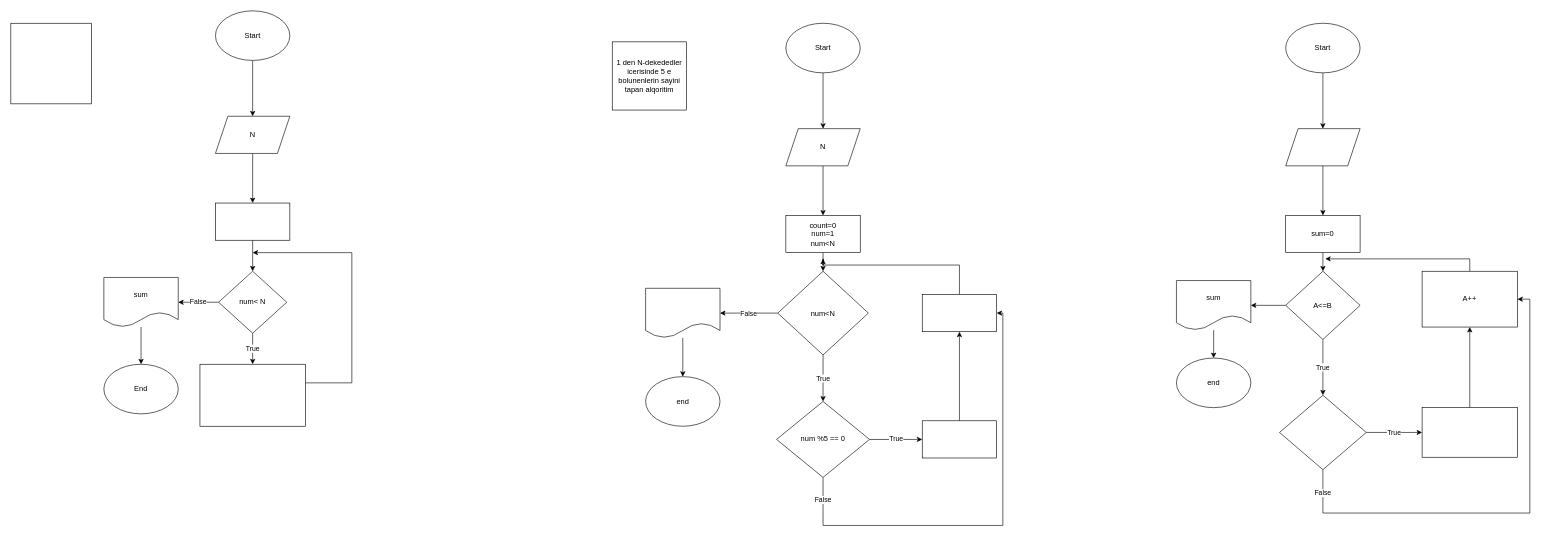
Some shapes in this 1546 by 541 pixel diagram are drawn without their labels. The shapes that lost their labels are listed below. From the top down, each one's box as (x1, y1, x2, y2) in pixels, then its label:
(10, 23, 91, 104): 1 den N dek ededlerin cemii
(1285, 128, 1360, 166): A.B
(215, 202, 290, 240): sum=0 num=1
(645, 288, 720, 338): count
(922, 294, 997, 332): num ++
(199, 364, 305, 426): sum +=num num++
(922, 420, 997, 458): count++
(1279, 395, 1366, 470): A %3 ==0
(1421, 407, 1517, 457): sum += A
